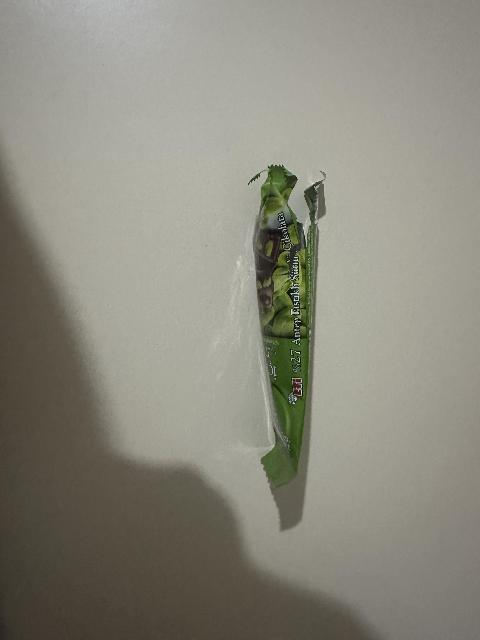Plastik: (243, 171, 332, 487)
